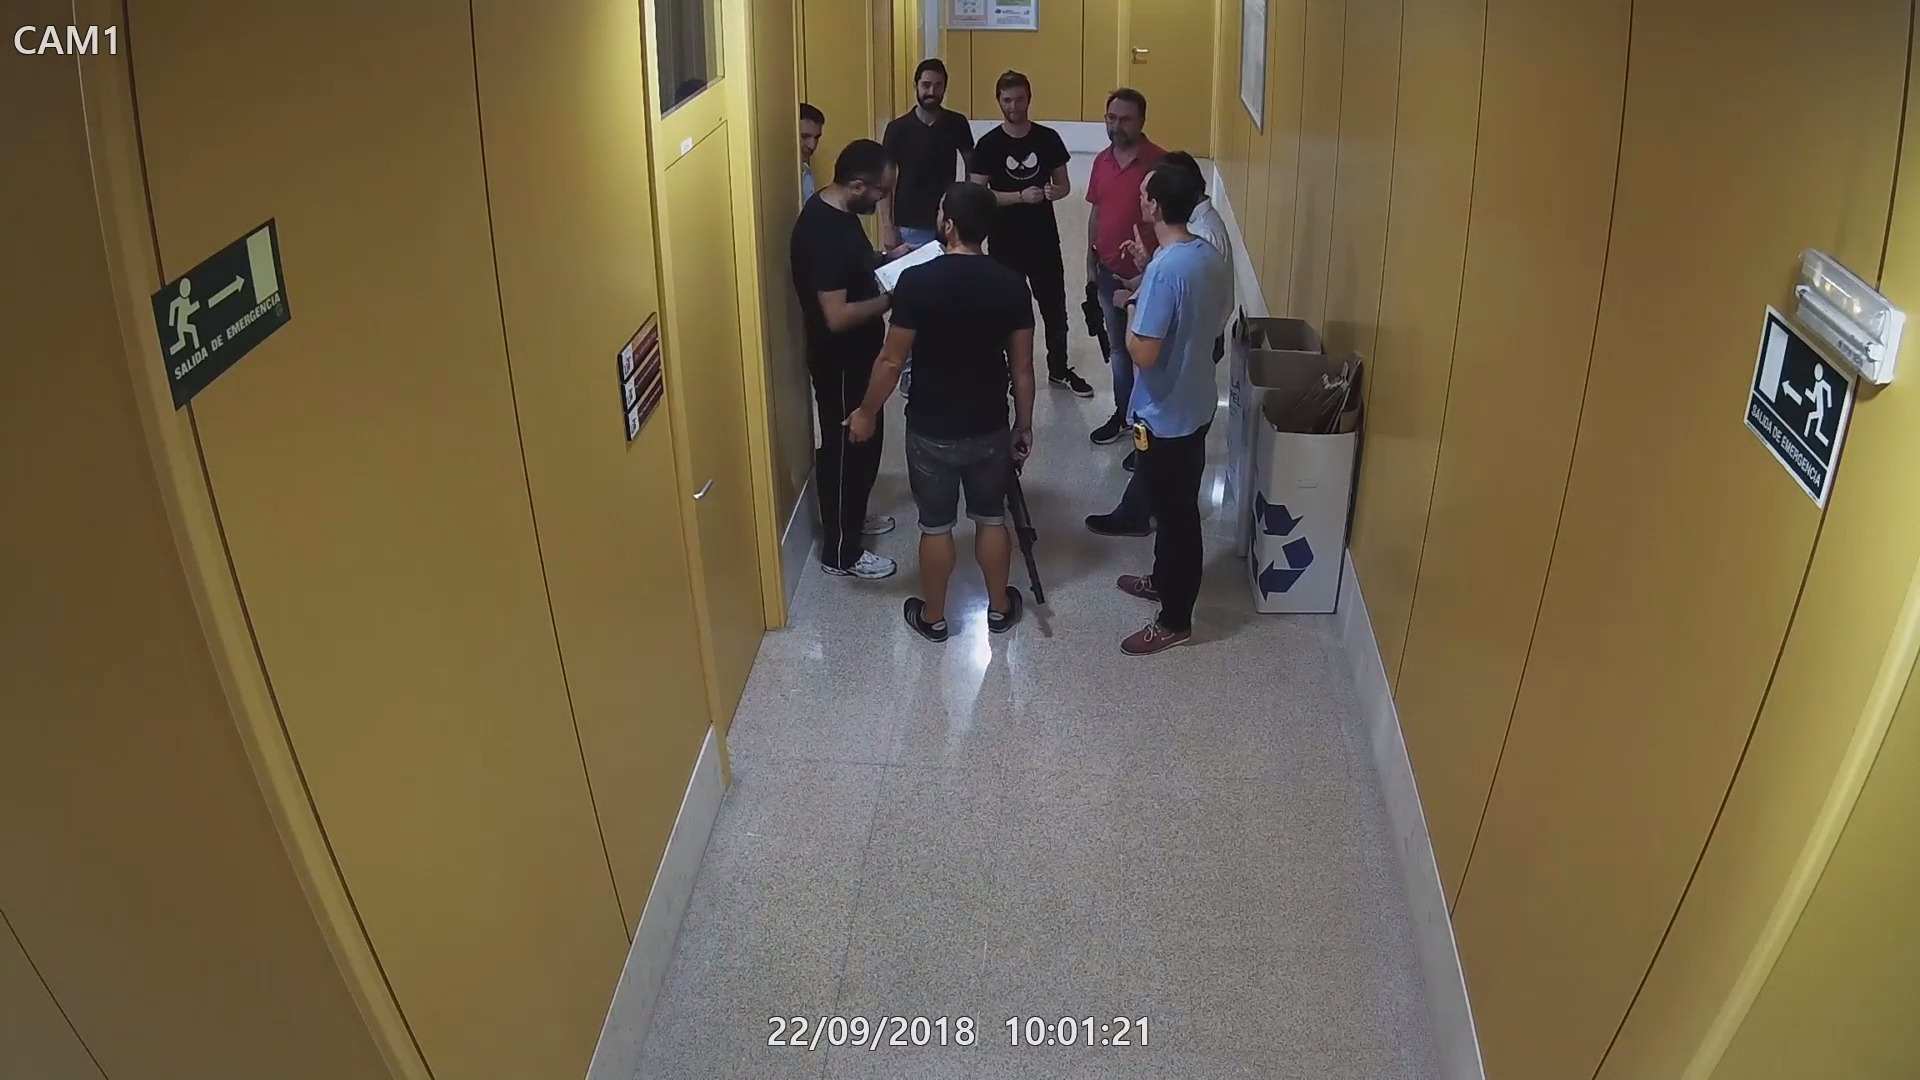pistol: (1084, 244, 1110, 280)
rifle: (1007, 419, 1048, 608), (1079, 265, 1114, 363)
